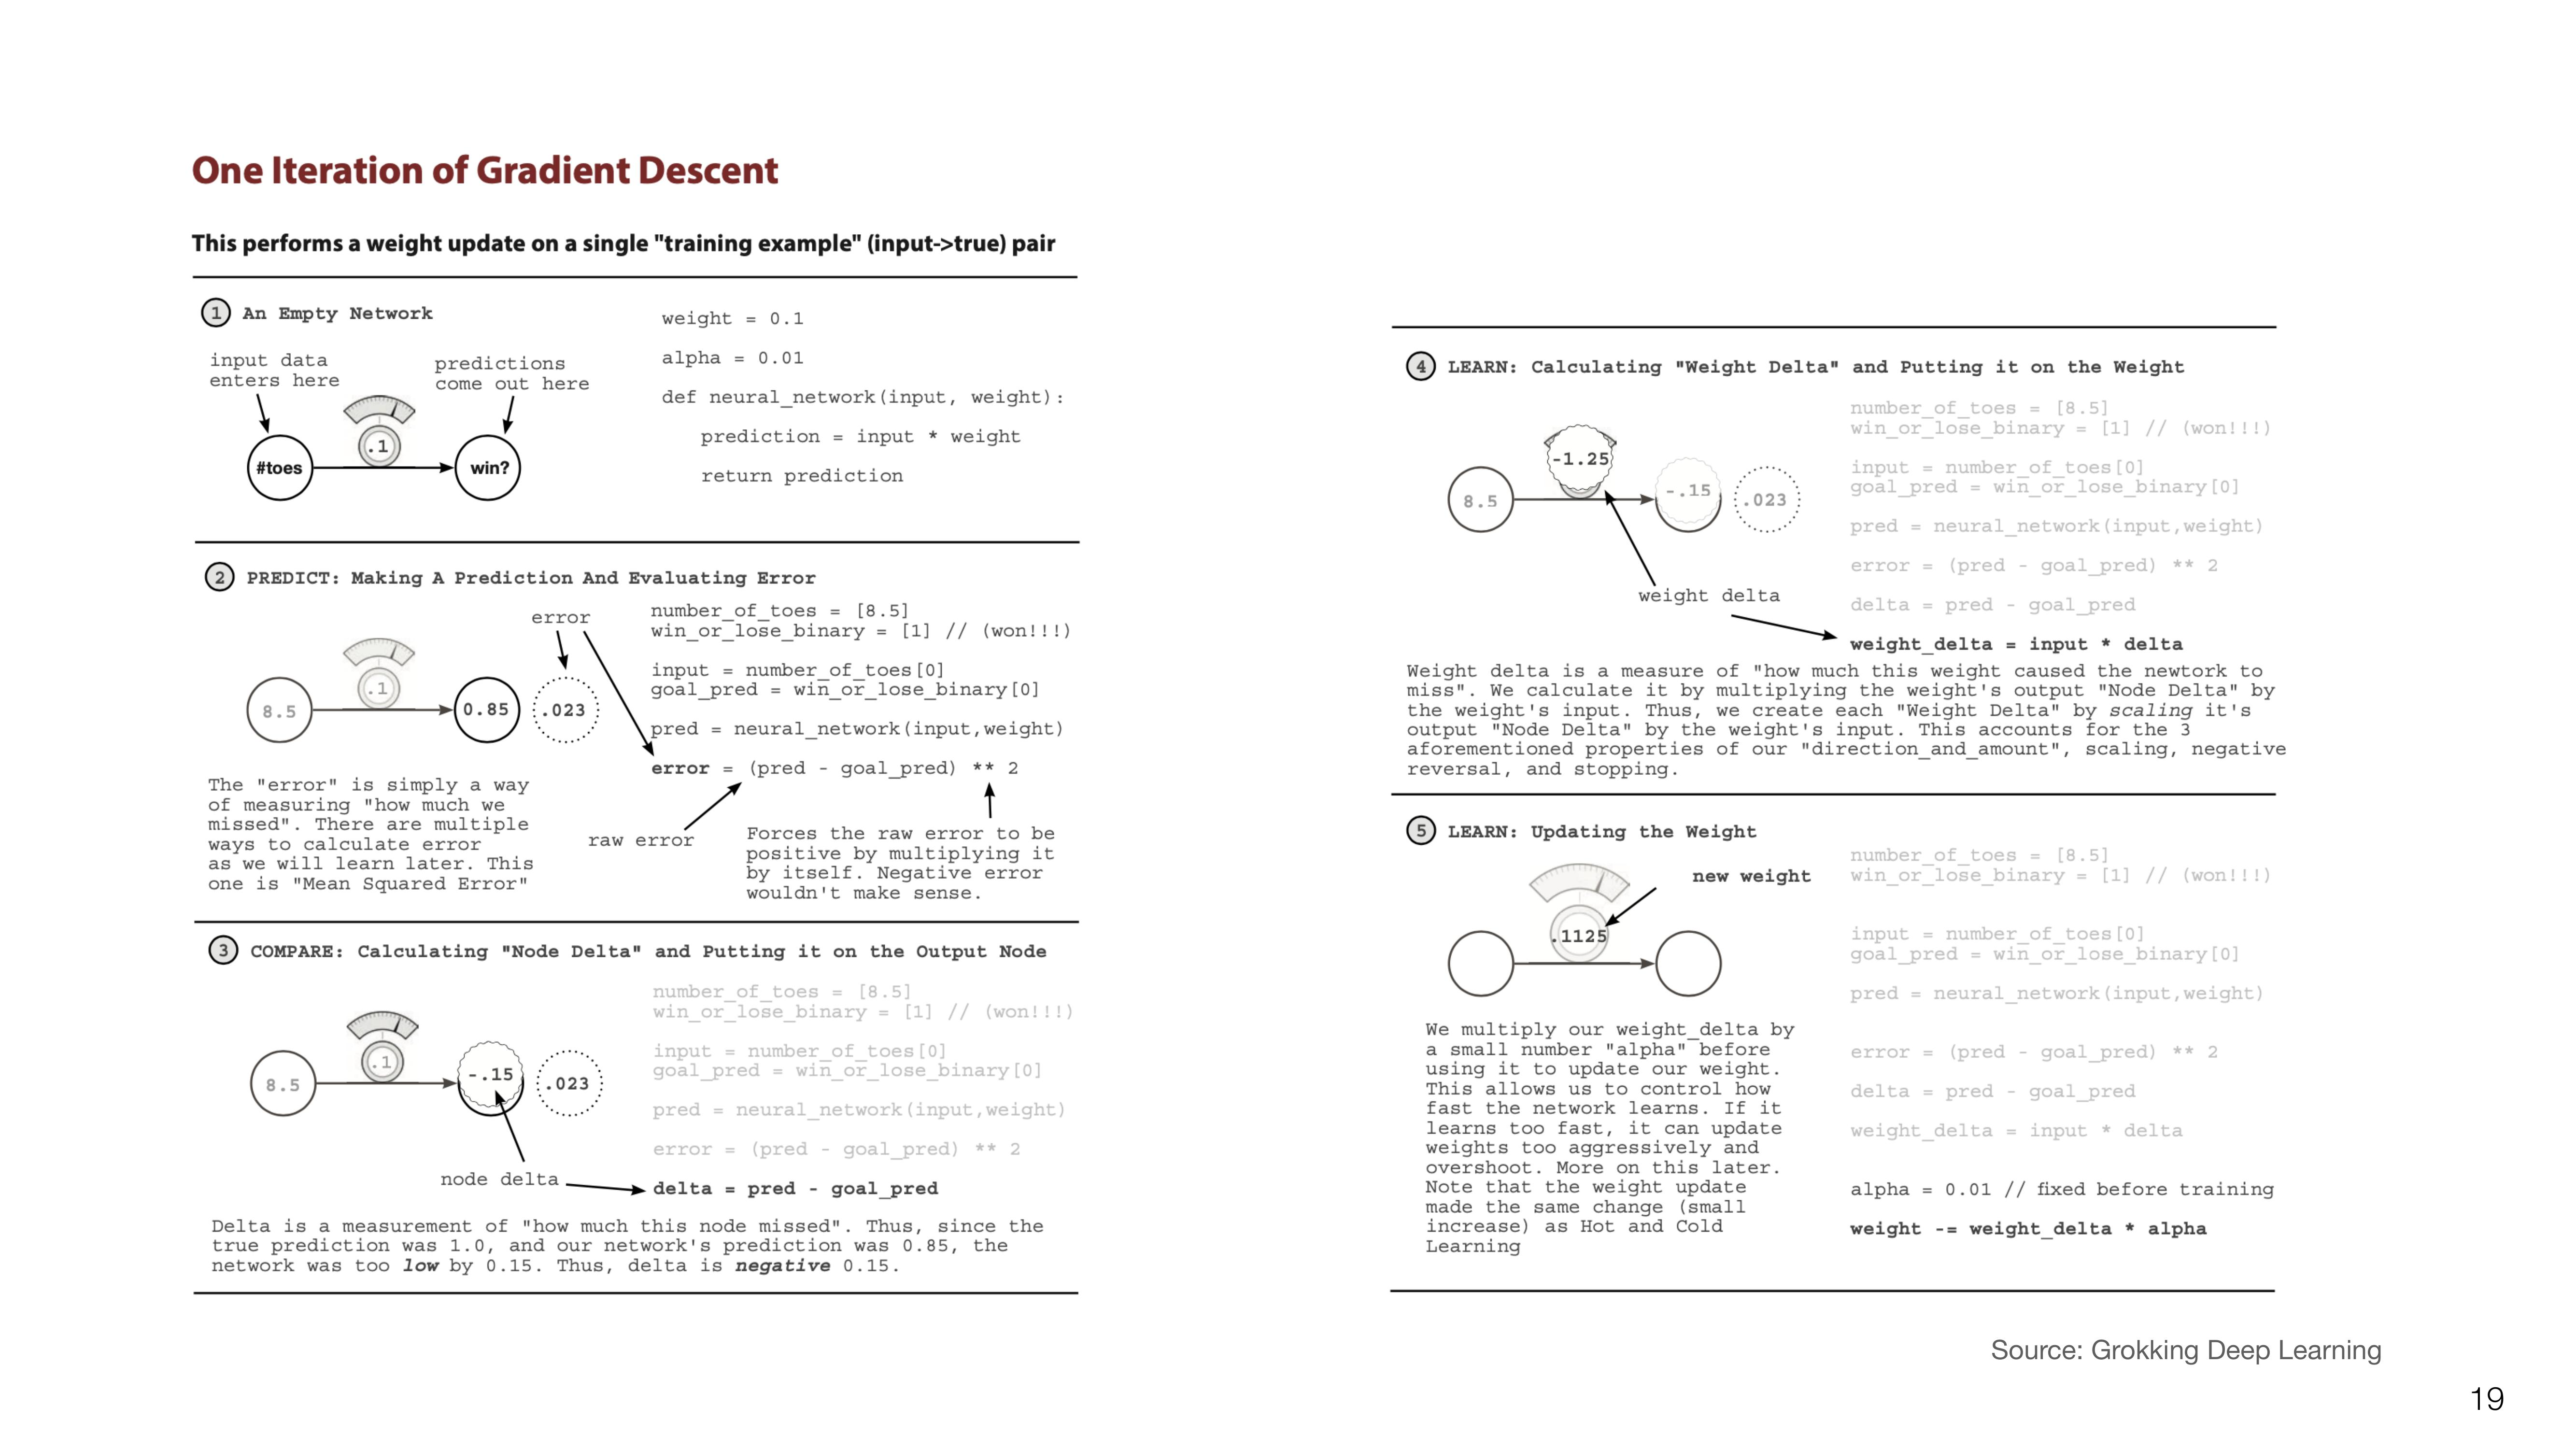Title: (124, 92, 819, 216)
